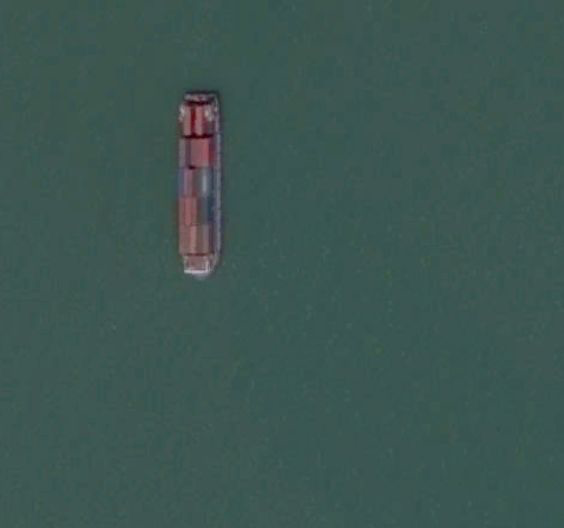boat: (172, 88, 226, 284)
